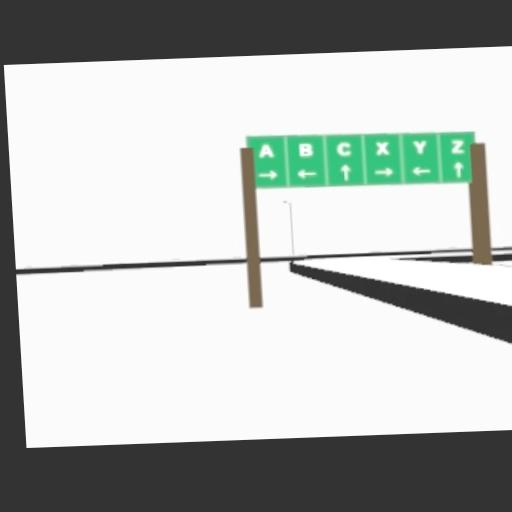A: (257, 141, 274, 156)
B: (297, 141, 312, 155)
C: (336, 140, 351, 155)
Left: (295, 167, 317, 177), (412, 164, 430, 175)
Right: (257, 168, 277, 179), (373, 166, 395, 175)
Straight: (339, 162, 351, 181), (453, 160, 464, 177)
X: (375, 140, 388, 154)
Y: (412, 139, 427, 153)
Z: (451, 137, 464, 152)
